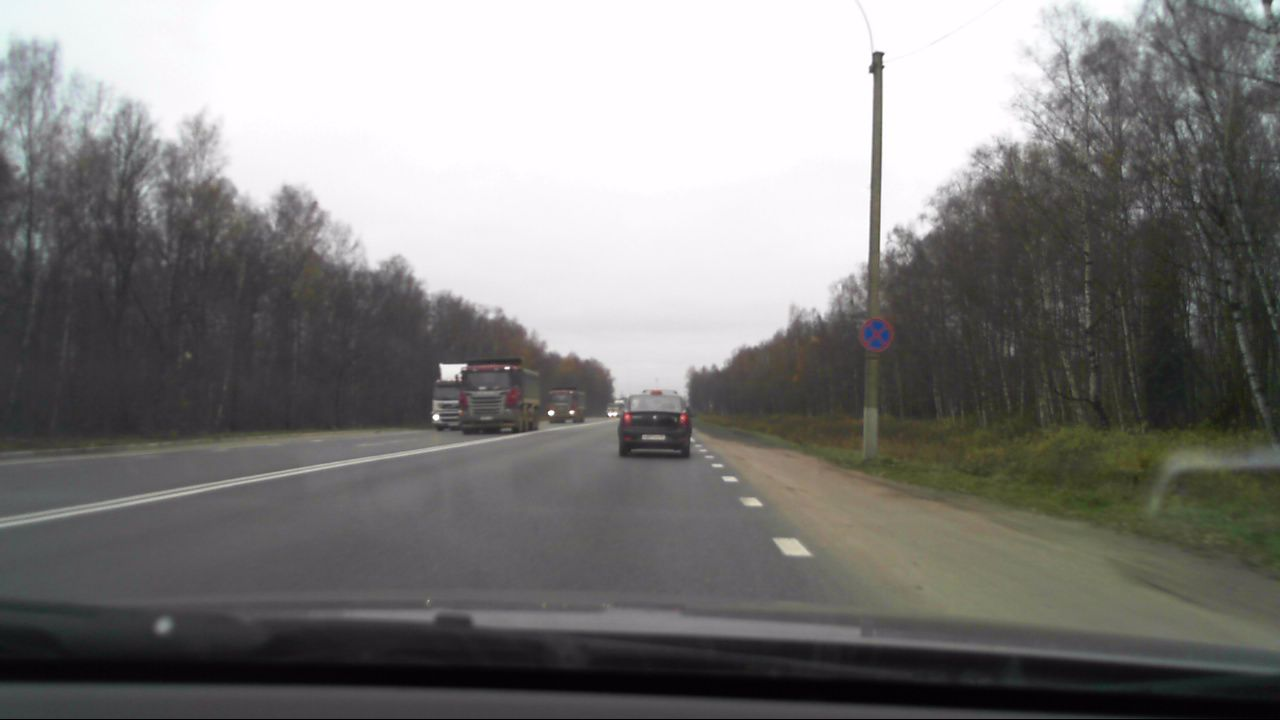No Parking: (858, 317, 894, 355)
